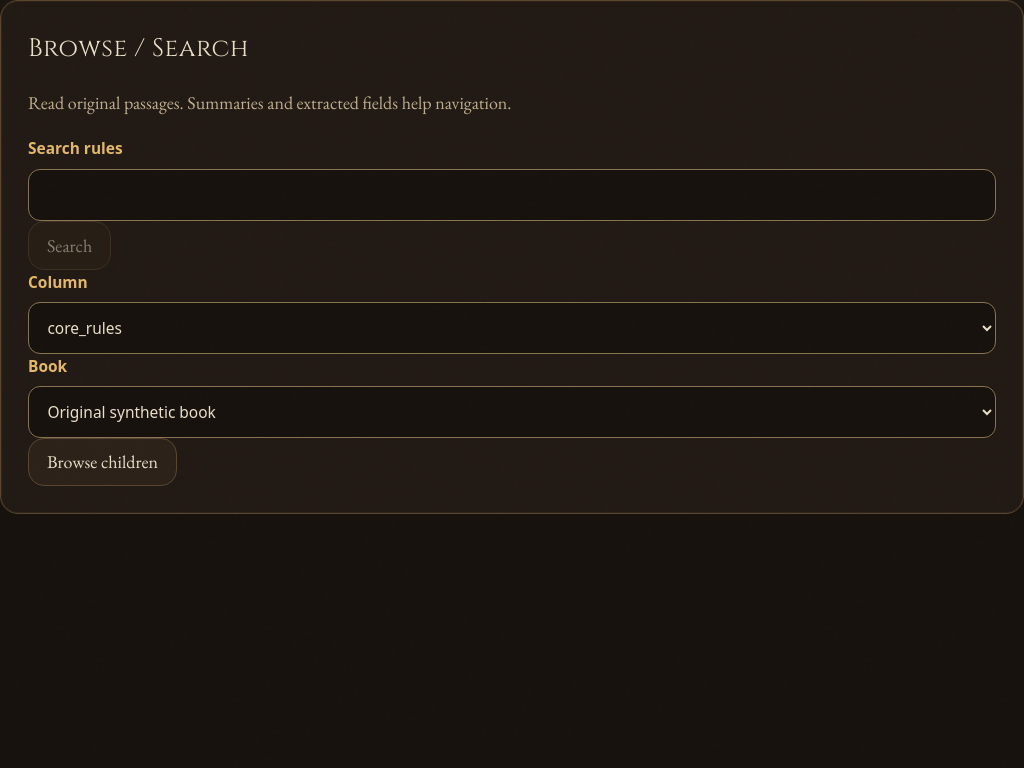
navigates a search locator and bounded text pages, preserving Unicode and safe literal text
Type "check" into the field labelled "Search rules" at (512, 195), box [28,169,996,221]
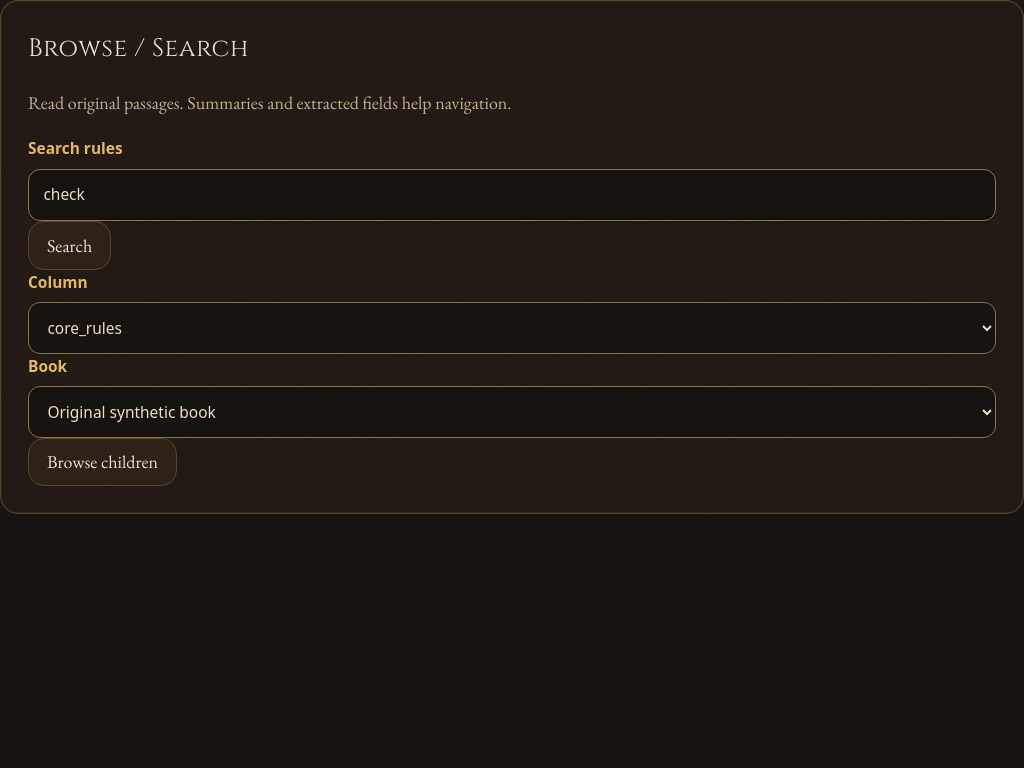
Click the button "Search" at (70, 245), box [28,221,111,270]
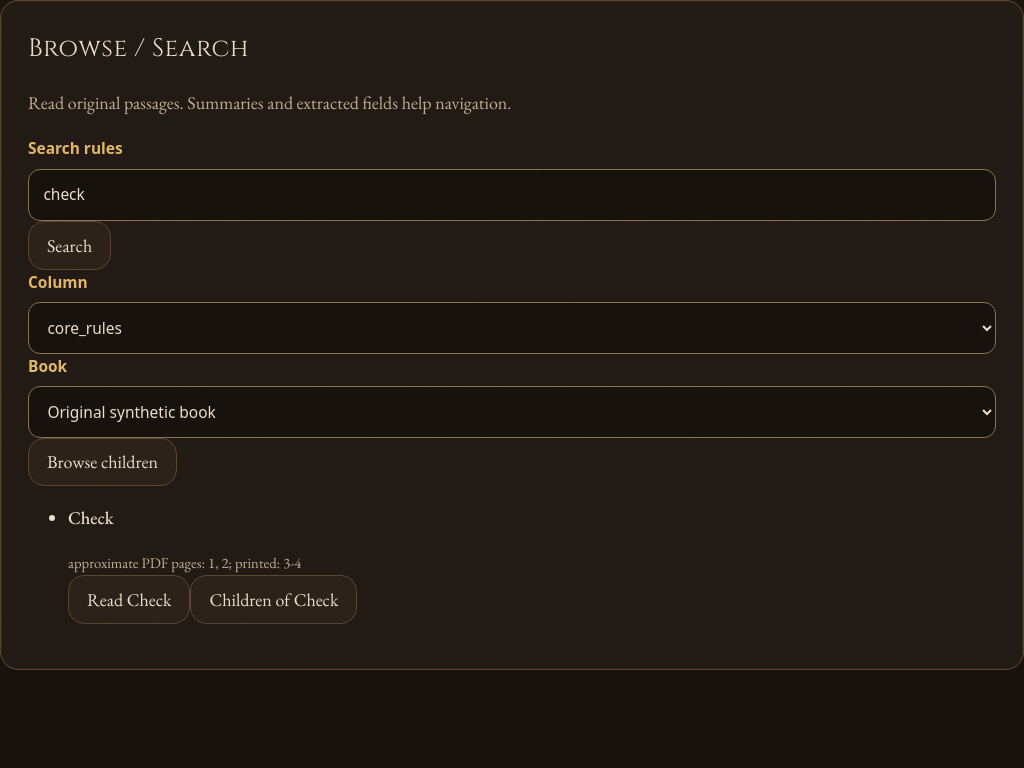
Now the button "Read Check" is shown
Now the text "approximate PDF pages: 1, 2; printed: 3-4" is shown, box [68,553,301,572]
Click the button "Read Check" at (129, 599), box [68,575,190,624]
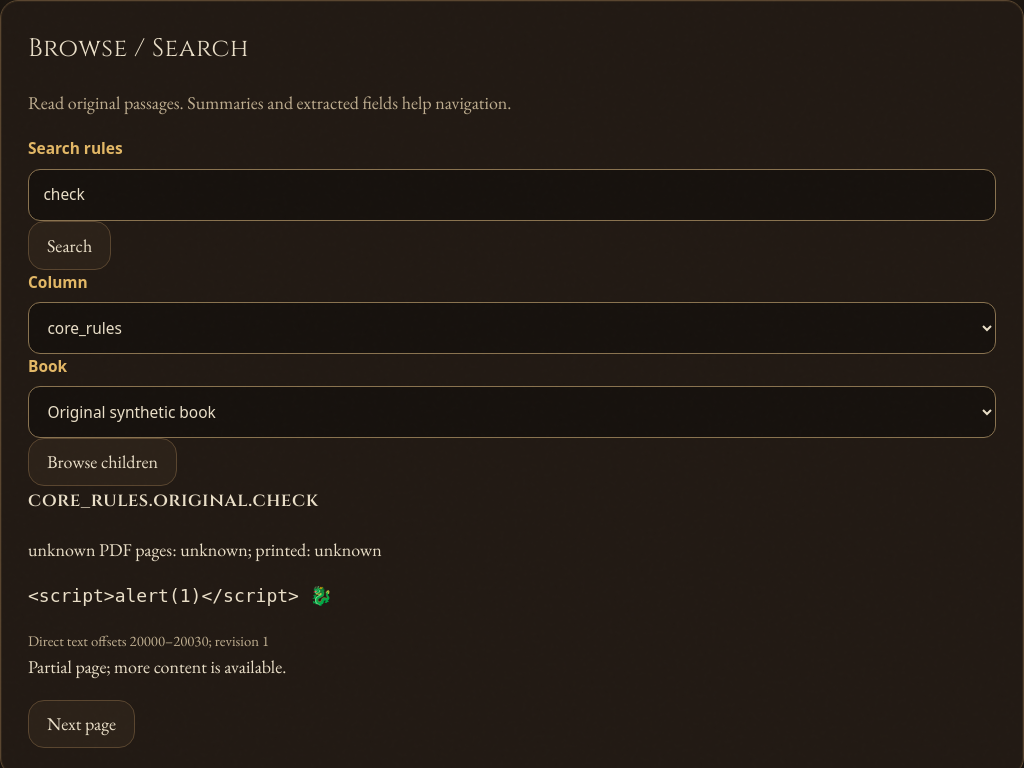
Now the text "<script>alert(1)</script> 🐉" is shown, box [28,585,332,606]
Click the button "Next page" at (82, 724), box [28,700,135,748]
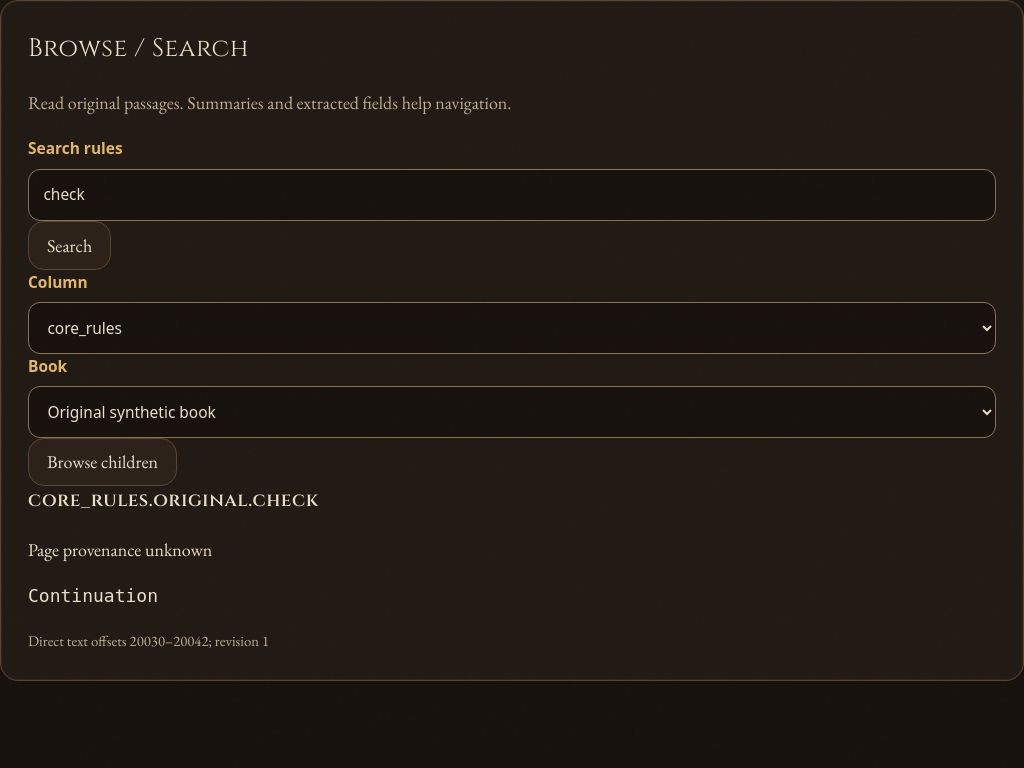
Now the text "Continuation" is shown, box [28,585,158,606]
